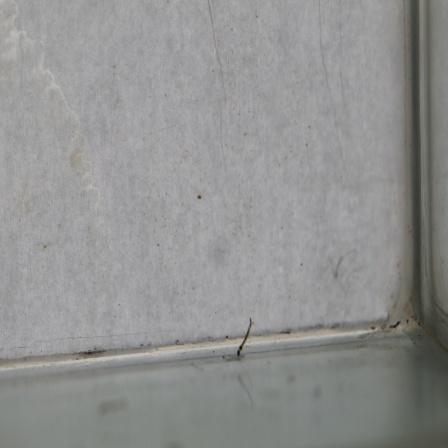Jentik-Nyamuk: (233, 315, 255, 363)
